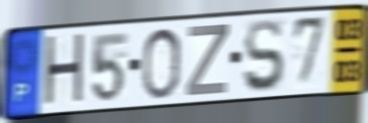5: (91, 30, 131, 104)
7: (290, 14, 330, 91)
H: (41, 31, 87, 112)
O: (139, 25, 183, 102)
S: (242, 16, 286, 95)
Z: (183, 22, 231, 99)
